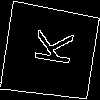K: (25, 26, 75, 67)
